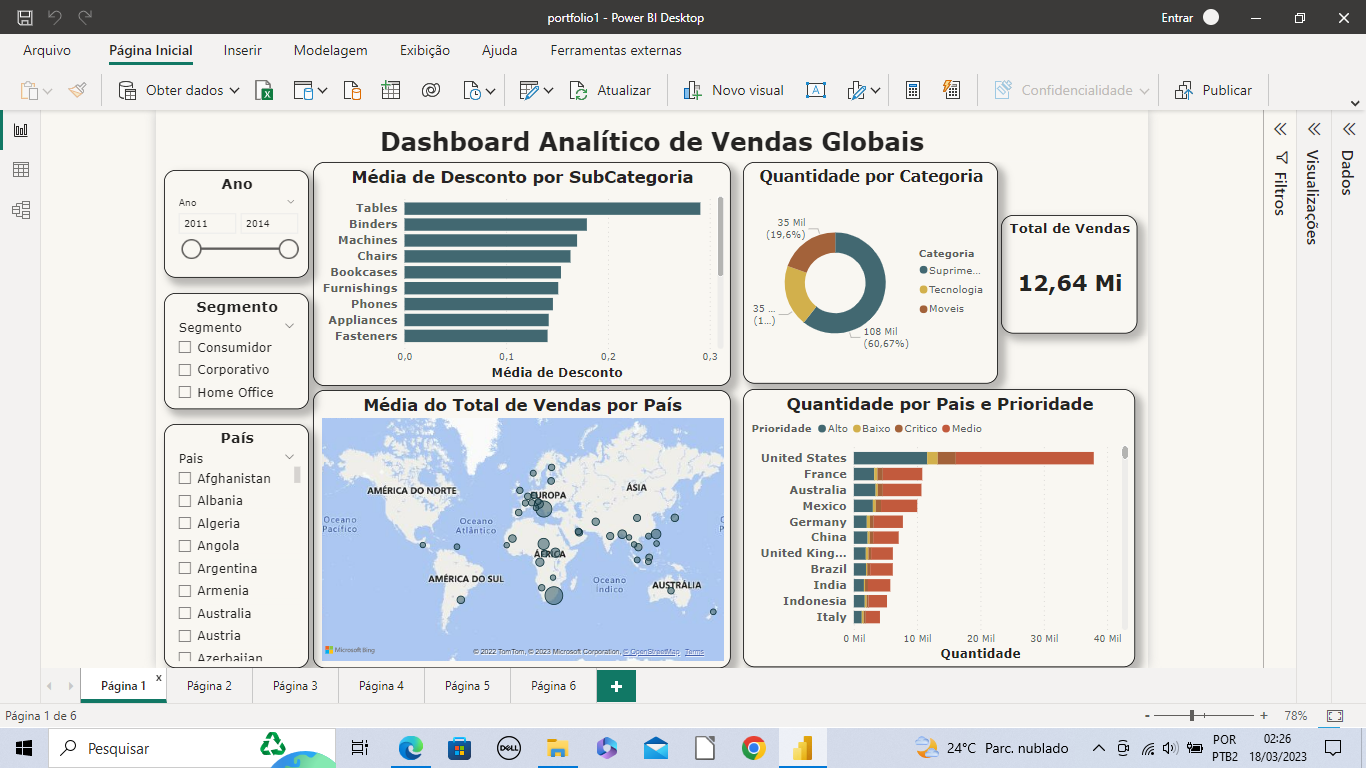

The page's visual inventory and layout, read from the dashboard file:
{"tool":"powerbi","page":{"name":"Página 1","canvas":[1280,720],"ordinal":0},"visuals":[{"type":"card","title":"Total de Vendas","fields":{"Values":["Sum(dataset.Total_Vendas)"]},"box":[1089.9,136.1,175.7,153.1],"z":0},{"type":"donutChart","fields":{"Y":["Sum(dataset.Quantidade)"],"Category":["dataset.Categoria"]},"box":[756.9,66.6,328.8,286.3],"z":1000},{"type":"barChart","fields":{"Category":["dataset.Pais"],"Y":["Sum(dataset.Quantidade)"],"Series":["dataset.Prioridade"]},"box":[756.9,360,506,358.6],"z":2000},{"type":"clusteredBarChart","fields":{"Y":["Avg(dataset.Desconto)"],"Category":["dataset.SubCategoria"]},"box":[202.7,66.6,538.6,289.1],"z":3000},{"type":"map","title":"Média do Total de Vendas por País","fields":{"Category":["dataset.Pais"],"Size":["Avg(dataset.Total_Vendas)"]},"box":[202.7,361.4,538.6,358.6],"z":4000},{"type":"slicer","title":"País","fields":{"Values":["dataset.Pais"]},"box":[10.1,404.6,187.2,315.4],"z":5000},{"type":"slicer","title":"Segmento","fields":{"Values":["dataset.Segmento"]},"box":[9.9,236.7,187.1,150.2],"z":6000},{"type":"slicer","title":"Ano","fields":{"Values":["dataset.Data_Pedido.Variation.Hierarquia de datas.Ano"]},"box":[9.9,78,187.1,138.9],"z":7000},{"type":"textbox","box":[0,15.6,1279.8,51],"z":8000}]}

Visuals, with their boxes on the page's 1280x720 design canvas (x1, y1, x2, y2). These are canvas units, not pixel positions in the 1366x768 screenshot, which may show the page scaled, cropped or inside an application window:
"Total de Vendas" card: [left=1090, top=136, right=1266, bottom=289]
donutChart - Sum(dataset.Quantidade) x dataset.Categoria: [left=757, top=67, right=1086, bottom=353]
barChart - dataset.Pais x Sum(dataset.Quantidade): [left=757, top=360, right=1263, bottom=719]
clusteredBarChart - Avg(dataset.Desconto) x dataset.SubCategoria: [left=203, top=67, right=741, bottom=356]
"Média do Total de Vendas por País" map: [left=203, top=361, right=741, bottom=720]
"País" slicer: [left=10, top=405, right=197, bottom=720]
"Segmento" slicer: [left=10, top=237, right=197, bottom=387]
"Ano" slicer: [left=10, top=78, right=197, bottom=217]
textbox: [left=0, top=16, right=1280, bottom=67]
